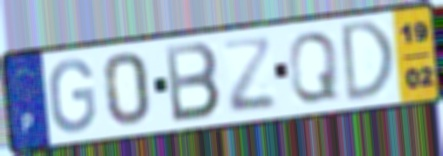0: (101, 51, 155, 128)
B: (162, 40, 224, 126)
D: (340, 17, 397, 106)
G: (47, 57, 99, 136)
Q: (286, 29, 341, 105)
Z: (220, 36, 279, 116)
